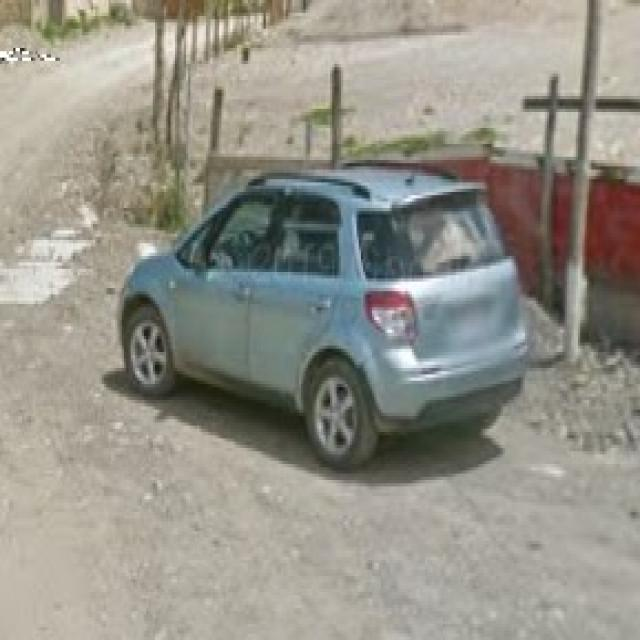cars: (117, 158, 528, 470)
